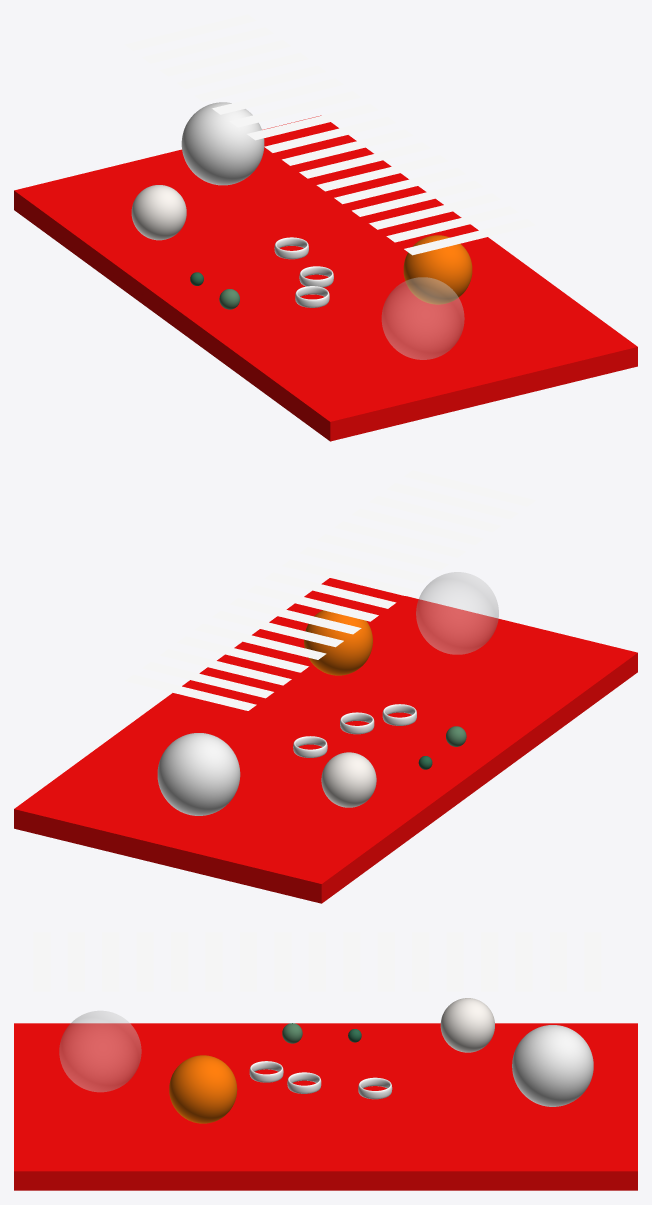
The model's file is glsl rt comparison scene.gltf.
3 views of the same model, one above another, from view 1: azimuth 30°, elevation 25°; view 2: azimuth 150°, elevation 25°; view 3: azimuth 270°, elevation 25° (orthographic).
Parts seen in each view (by area): view 1: Platform, Glass Ball, Chrome Ball, Orange Ball, Ping Pong, Quad Light 07, Quad Light 12, Quad Light 15, Quad Light 03, Quad Light 04, Quad Light 06, Quad Light 09 (+10 smaller); view 2: Platform, Chrome Ball, Glass Ball, Orange Ball, Ping Pong, Quad Light 05, Quad Light 14, Quad Light 17, Quad Light 02, Quad Light 03, Quad Light 06, Quad Light 08 (+10 smaller); view 3: Platform, Chrome Ball, Glass Ball, Orange Ball, Ping Pong, Quad Light 01, Quad Light 03, Quad Light 04, Quad Light 05, Quad Light 06, Quad Light 07, Quad Light 08 (+13 smaller).
Boxes of the visible parts, bbox=[...] form: Platform: bbox=[14, 115, 637, 441]; Glass Ball: bbox=[382, 277, 464, 359]; Chrome Ball: bbox=[181, 102, 264, 185]; Orange Ball: bbox=[403, 235, 472, 304]; Ping Pong: bbox=[131, 185, 186, 240]; Quad Light 07: bbox=[229, 91, 360, 127]; Quad Light 12: bbox=[316, 155, 448, 191]; Quad Light 15: bbox=[369, 193, 500, 229]; Quad Light 03: bbox=[159, 40, 290, 76]; Quad Light 04: bbox=[177, 52, 308, 89]; Quad Light 06: bbox=[212, 78, 343, 114]; Quad Light 09: bbox=[264, 116, 395, 152]; Platform: bbox=[14, 578, 637, 903]; Chrome Ball: bbox=[157, 733, 240, 815]; Glass Ball: bbox=[416, 572, 498, 654]; Orange Ball: bbox=[304, 610, 372, 675]; Ping Pong: bbox=[321, 752, 376, 807]; Quad Light 05: bbox=[195, 623, 326, 659]; Quad Light 14: bbox=[352, 508, 483, 544]; Quad Light 17: bbox=[404, 470, 535, 506]; Quad Light 02: bbox=[142, 662, 273, 698]; Quad Light 03: bbox=[160, 649, 291, 685]; Quad Light 06: bbox=[212, 611, 343, 647]; Quad Light 08: bbox=[247, 585, 378, 621]; Platform: bbox=[14, 1023, 637, 1190]; Chrome Ball: bbox=[512, 1025, 593, 1106]; Glass Ball: bbox=[59, 1011, 141, 1091]; Orange Ball: bbox=[169, 1055, 237, 1123]; Ping Pong: bbox=[440, 998, 494, 1052]; Quad Light 01: bbox=[584, 932, 601, 991]; Quad Light 03: bbox=[515, 932, 532, 991]; Quad Light 04: bbox=[481, 932, 498, 991]; Quad Light 05: bbox=[446, 932, 463, 991]; Quad Light 06: bbox=[412, 932, 429, 991]; Quad Light 07: bbox=[377, 932, 394, 991]; Quad Light 08: bbox=[343, 932, 360, 991].
Size of what is drawn, in the model's own units: 10.18 by 4.95 by 18.12.
